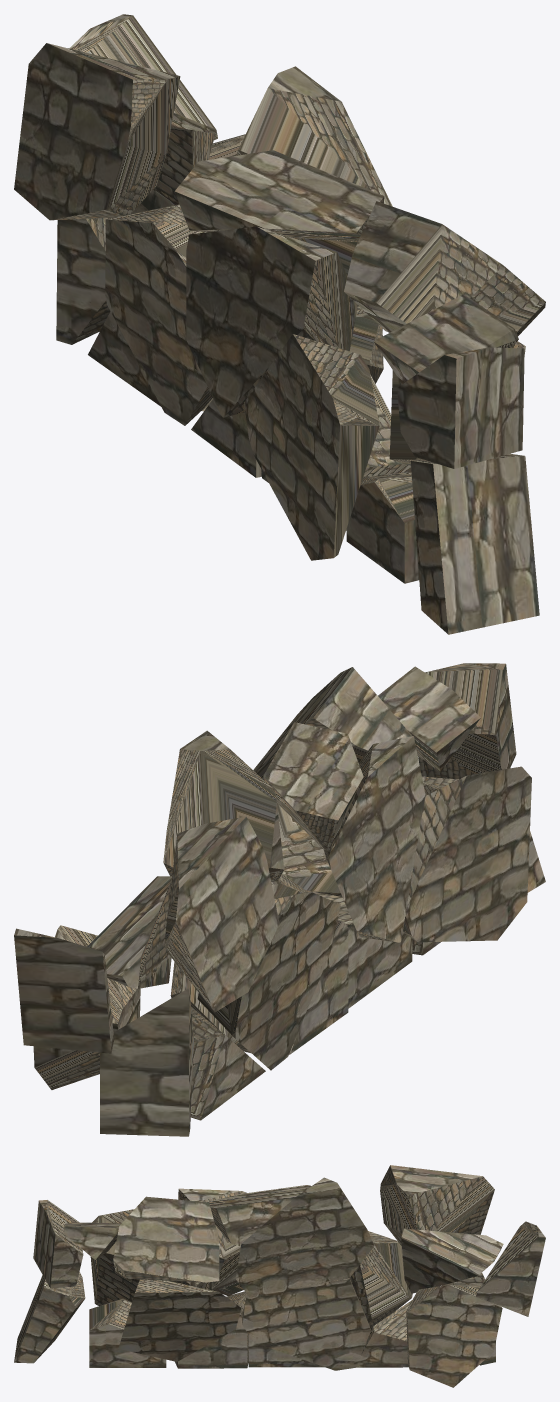
The model's file is BreakWallSmall_000006.obj.
3 renders of one model, top to bottom at view 1: azimuth 30°, elevation 25°; view 2: azimuth 150°, elevation 25°; view 3: azimuth 270°, elevation 25°, orthographic. The views are drawn at different scales.
Visible parts, largest first — view 1: Cube.002_cell.010_Cube.002_cell.009, Cube.002_cell.017_Cube.002_cell.016, Cube.002_cell.013_Cube.002_cell.012, Cube.002_cell.002_Cube.002_cell.001, Cube.002_cell.004_Cube.002_cell.003, Cube.002_cell.012_Cube.002_cell.011, Cube.002_cell.009_Cube.002_cell.008, Cube.002_cell.007_Cube.002_cell.006, Cube.002_cell.003_Cube.002_cell.002, Cube.002_cell.019_Cube.002_cell.018, Cube.002_cell.018_Cube.002_cell.017, Cube.002_cell.011_Cube.002_cell.010 (+7 smaller); view 2: Cube.002_cell.013_Cube.002_cell.012, Cube.002_cell.010_Cube.002_cell.009, Cube.002_cell.017_Cube.002_cell.016, Cube.002_cell.018_Cube.002_cell.017, Cube.002_cell.012_Cube.002_cell.011, Cube.002_cell.005_Cube.002_cell.004, Cube.002_cell.003_Cube.002_cell.002, Cube.002_cell.009_Cube.002_cell.008, Cube.002_cell.007_Cube.002_cell.006, Cube.002_cell.001_Cube.002_cell.000, Cube.002_cell.019_Cube.002_cell.018, Cube.002_cell.004_Cube.002_cell.003 (+7 smaller); view 3: Cube.002_cell.003_Cube.002_cell.002, Cube.002_cell.015_Cube.002_cell.014, Cube.002_cell.004_Cube.002_cell.003, Cube.002_cell.014_Cube.002_cell.013, Cube.002_cell.016_Cube.002_cell.015, Cube.002_cell.010_Cube.002_cell.009, Cube.002_cell.001_Cube.002_cell.000, Cube.002_cell.005_Cube.002_cell.004, Cube.002_cell.012_Cube.002_cell.011, Cube.002_cell.002_Cube.002_cell.001, Cube.002_cell.007_Cube.002_cell.006, Cube.002_cell.009_Cube.002_cell.008 (+8 smaller).
Part boxes in pixels (left/top/right/bottom): Cube.002_cell.010_Cube.002_cell.009: left=14, top=43, right=180, bottom=220; Cube.002_cell.017_Cube.002_cell.016: left=186, top=226, right=357, bottom=417; Cube.002_cell.013_Cube.002_cell.012: left=244, top=334, right=379, bottom=560; Cube.002_cell.002_Cube.002_cell.001: left=410, top=453, right=539, bottom=634; Cube.002_cell.004_Cube.002_cell.003: left=344, top=201, right=545, bottom=335; Cube.002_cell.012_Cube.002_cell.011: left=105, top=204, right=212, bottom=425; Cube.002_cell.009_Cube.002_cell.008: left=174, top=150, right=384, bottom=242; Cube.002_cell.007_Cube.002_cell.006: left=397, top=347, right=524, bottom=468; Cube.002_cell.003_Cube.002_cell.002: left=236, top=66, right=392, bottom=306; Cube.002_cell.019_Cube.002_cell.018: left=373, top=294, right=518, bottom=383; Cube.002_cell.018_Cube.002_cell.017: left=56, top=218, right=111, bottom=344; Cube.002_cell.011_Cube.002_cell.010: left=346, top=472, right=419, bottom=583; Cube.002_cell.013_Cube.002_cell.012: left=402, top=766, right=531, bottom=942; Cube.002_cell.010_Cube.002_cell.009: left=164, top=816, right=279, bottom=1012; Cube.002_cell.017_Cube.002_cell.016: left=324, top=736, right=425, bottom=942; Cube.002_cell.018_Cube.002_cell.017: left=100, top=988, right=193, bottom=1136; Cube.002_cell.012_Cube.002_cell.011: left=197, top=891, right=340, bottom=1070; Cube.002_cell.005_Cube.002_cell.004: left=14, top=928, right=114, bottom=1053; Cube.002_cell.003_Cube.002_cell.002: left=163, top=730, right=284, bottom=881; Cube.002_cell.009_Cube.002_cell.008: left=263, top=722, right=363, bottom=852; Cube.002_cell.007_Cube.002_cell.006: left=418, top=663, right=516, bottom=779; Cube.002_cell.001_Cube.002_cell.000: left=87, top=876, right=171, bottom=988; Cube.002_cell.019_Cube.002_cell.018: left=378, top=666, right=480, bottom=772; Cube.002_cell.004_Cube.002_cell.003: left=253, top=667, right=411, bottom=780; Cube.002_cell.003_Cube.002_cell.002: left=235, top=1177, right=374, bottom=1294; Cube.002_cell.015_Cube.002_cell.014: left=242, top=1278, right=370, bottom=1370; Cube.002_cell.004_Cube.002_cell.003: left=113, top=1196, right=219, bottom=1282; Cube.002_cell.014_Cube.002_cell.013: left=406, top=1284, right=502, bottom=1387; Cube.002_cell.016_Cube.002_cell.015: left=118, top=1279, right=241, bottom=1361; Cube.002_cell.010_Cube.002_cell.009: left=380, top=1165, right=494, bottom=1245; Cube.002_cell.001_Cube.002_cell.000: left=401, top=1228, right=503, bottom=1293; Cube.002_cell.005_Cube.002_cell.004: left=476, top=1221, right=545, bottom=1316; Cube.002_cell.012_Cube.002_cell.011: left=350, top=1231, right=412, bottom=1328; Cube.002_cell.002_Cube.002_cell.001: left=14, top=1272, right=85, bottom=1363; Cube.002_cell.007_Cube.002_cell.006: left=33, top=1200, right=83, bottom=1288; Cube.002_cell.009_Cube.002_cell.008: left=207, top=1185, right=311, bottom=1246.
Bounding box in the file's own units: 10.94 × 14.24 × 36.86.
Materials: 2 (2 with a texture image).
